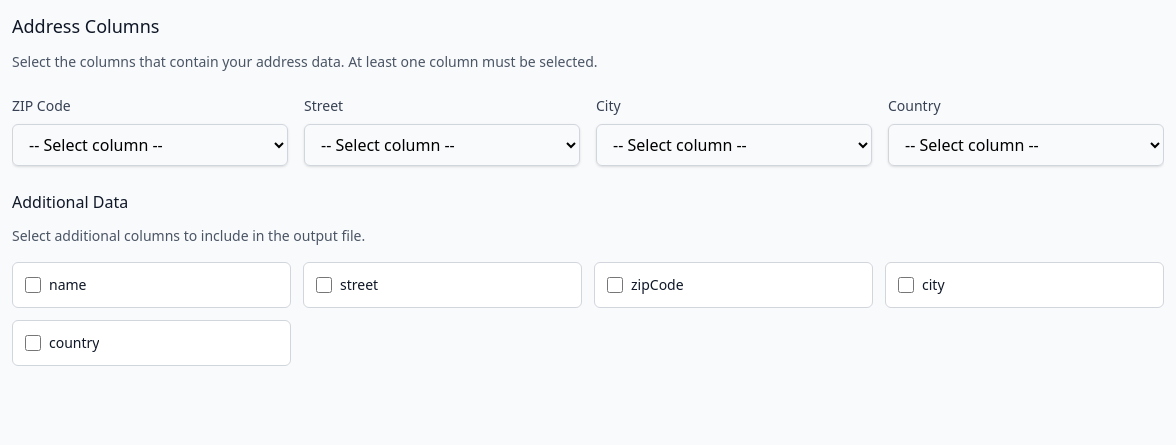
Test: ColumnSelector Component › Metadata Columns › should show summary of selected metadata columns
Click the checkbox labelled "name".
click(33, 285)  # box [25, 277, 41, 293]
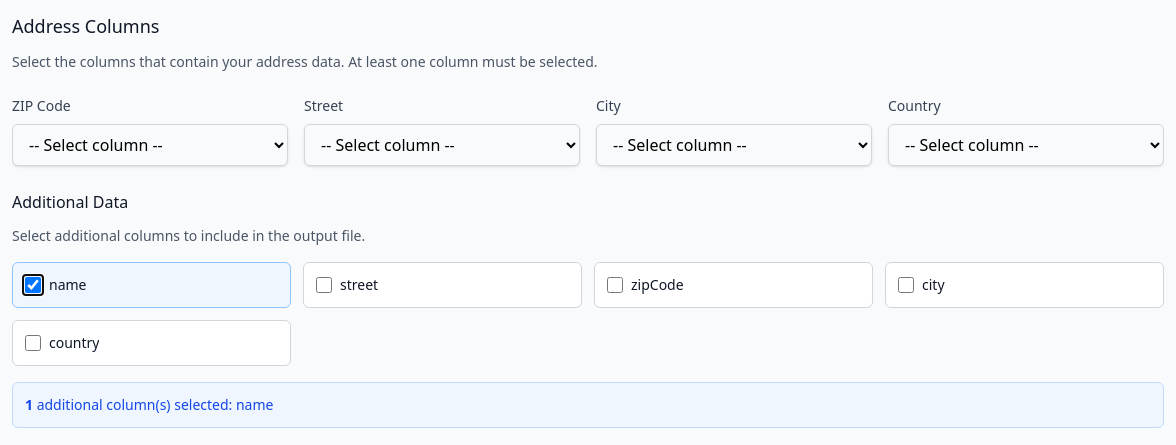
Click the checkbox labelled "country".
click(33, 343)  # box [25, 335, 41, 351]
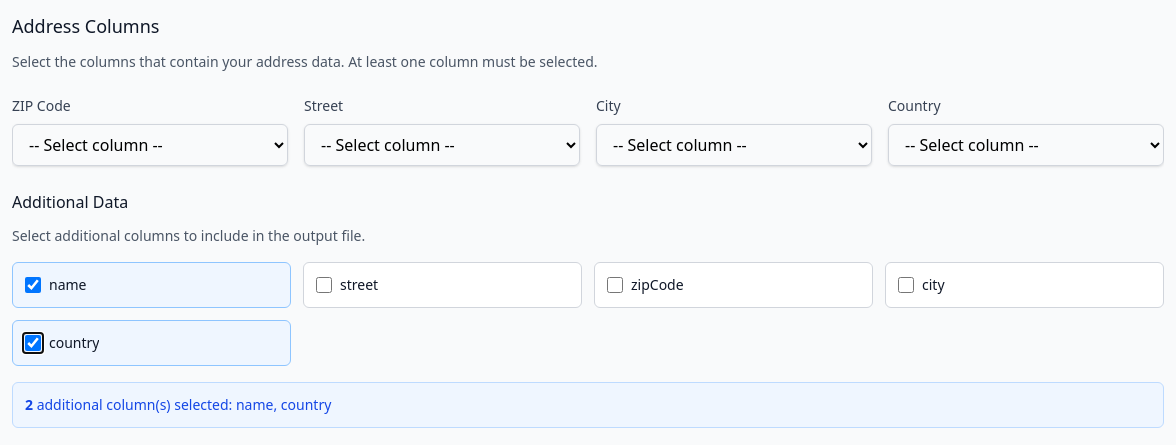
Result: the text "2 additional column(s) selected: name, country" is shown at [25, 395, 331, 414]
Result: the text "2" is shown at [25, 395, 33, 414]
